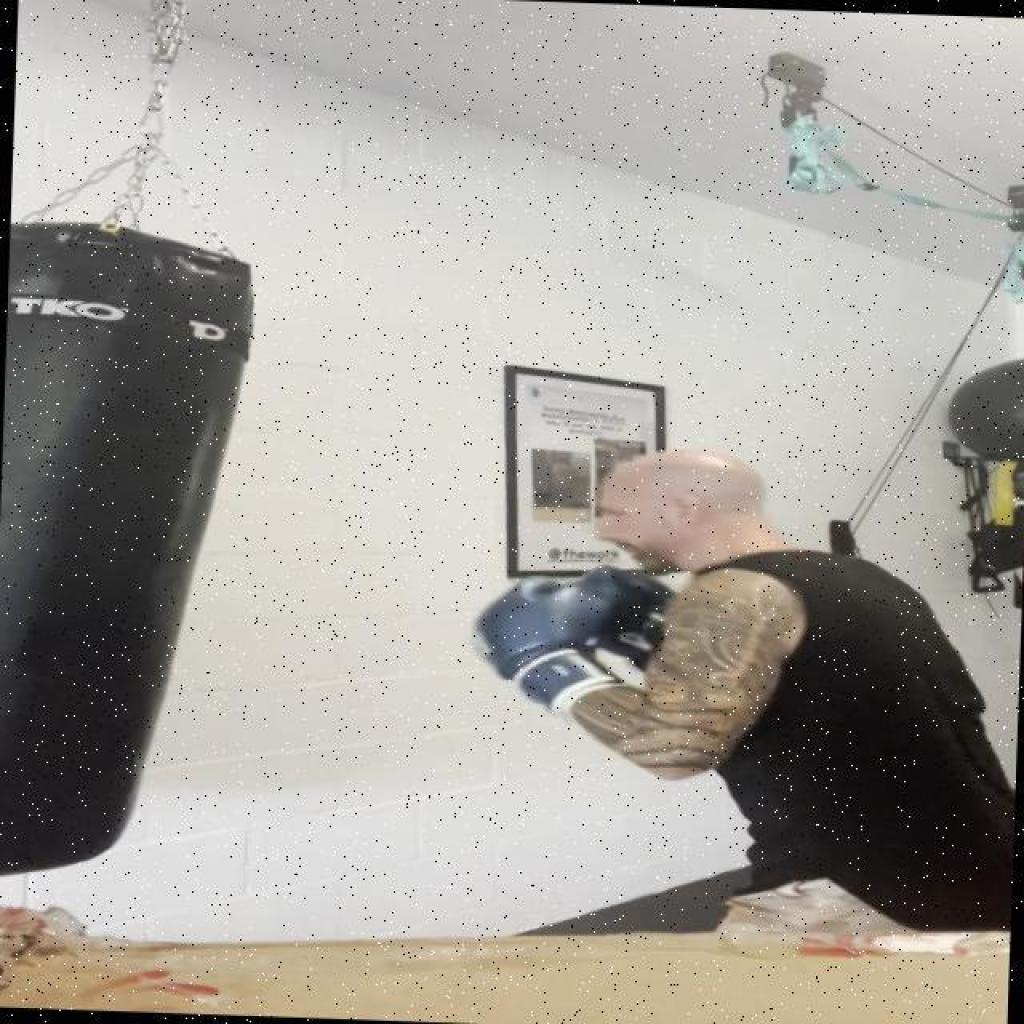bag: (0, 208, 243, 885)
no punch: (456, 440, 966, 779)
